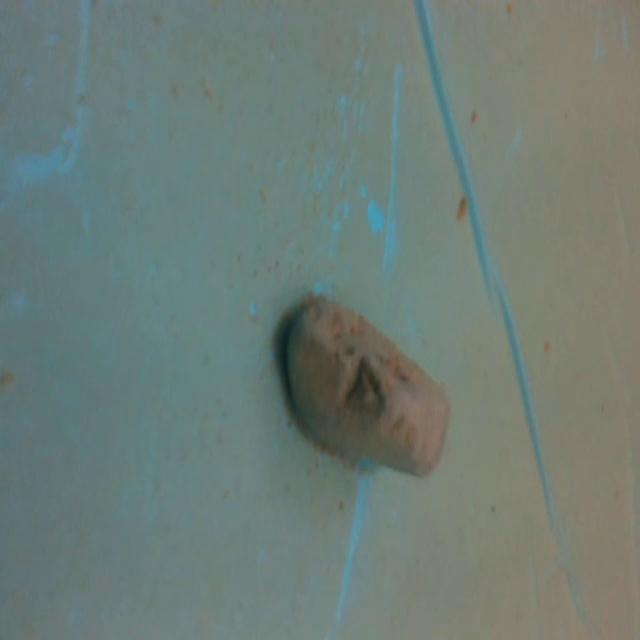rock: (272, 287, 459, 485)
